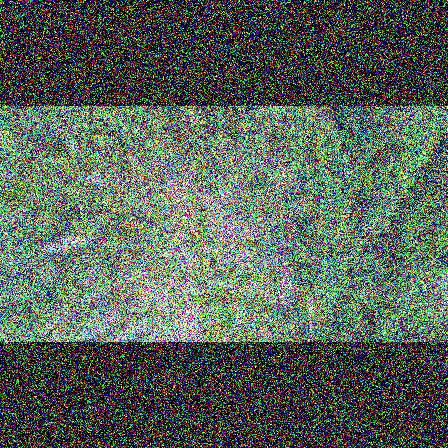Dead: (80, 299, 129, 337), (110, 309, 150, 343), (37, 238, 85, 257), (75, 288, 109, 307), (60, 230, 101, 245), (78, 172, 109, 187), (87, 259, 113, 274), (78, 276, 98, 287)
